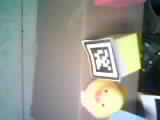duck: (80, 73, 122, 114)
